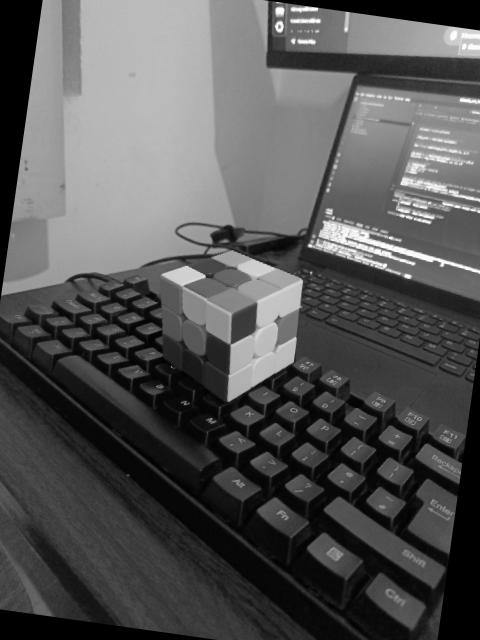rubik: (143, 238, 310, 410)
